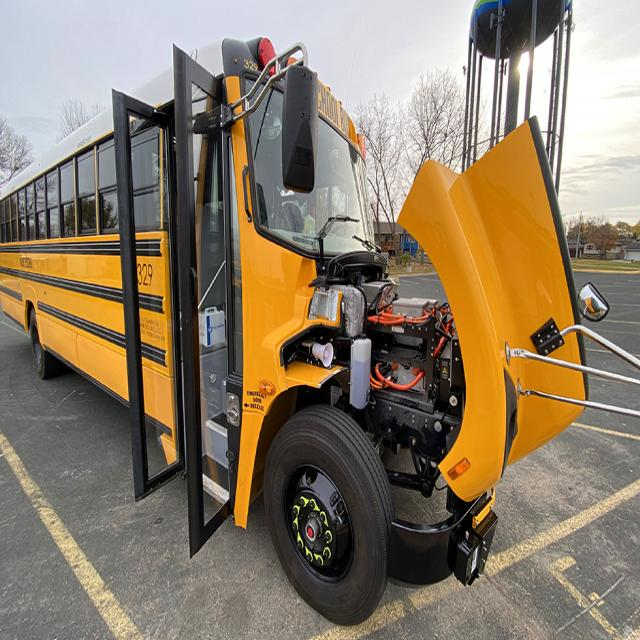bus: (0, 21, 613, 631)
